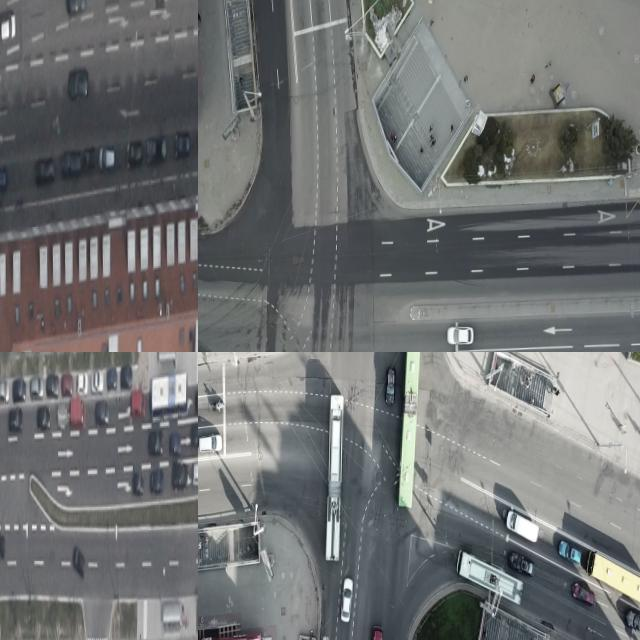UAI: (68, 67, 89, 100), (34, 156, 55, 187), (446, 324, 474, 346), (146, 136, 167, 165), (558, 539, 583, 563), (507, 551, 533, 574), (340, 576, 353, 621), (61, 151, 81, 178), (572, 582, 595, 605), (126, 140, 143, 171), (98, 143, 116, 172), (199, 432, 222, 454), (71, 397, 86, 430), (172, 461, 188, 491), (148, 428, 164, 458), (0, 13, 16, 42), (384, 365, 395, 407), (131, 389, 146, 419), (175, 131, 191, 158), (73, 545, 86, 577), (95, 398, 109, 427), (9, 406, 23, 433), (150, 468, 163, 495), (627, 610, 640, 637), (65, 0, 86, 16), (84, 147, 96, 173), (37, 404, 50, 428), (13, 376, 26, 400), (92, 368, 104, 394), (31, 376, 44, 399), (132, 471, 144, 495), (47, 373, 59, 397), (121, 365, 133, 388), (170, 433, 181, 457), (62, 371, 73, 395), (107, 365, 117, 391), (58, 404, 68, 428), (78, 371, 88, 395), (369, 624, 384, 640), (0, 165, 7, 196), (0, 379, 9, 403), (191, 420, 198, 447), (192, 460, 198, 484), (194, 384, 198, 416), (0, 534, 4, 558)
car: (455, 552, 523, 605), (398, 352, 421, 507), (586, 549, 640, 612), (325, 393, 345, 561), (151, 371, 188, 421)
harvester: (505, 508, 539, 543)
